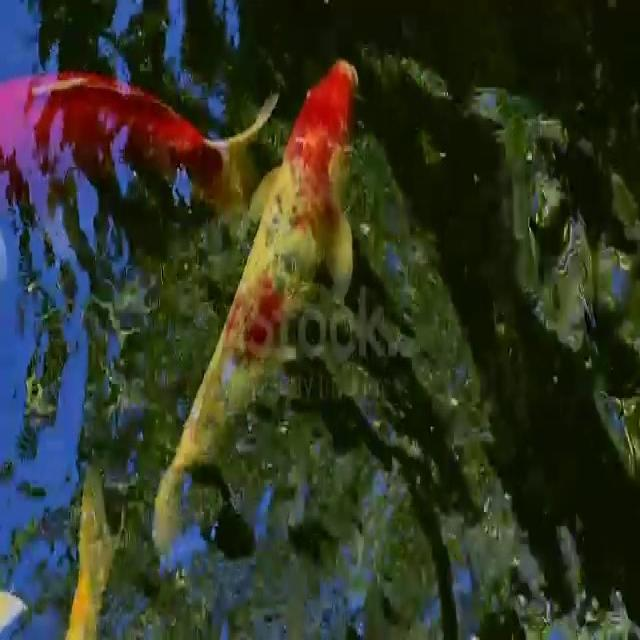fish: (160, 49, 378, 526), (0, 42, 274, 216)
